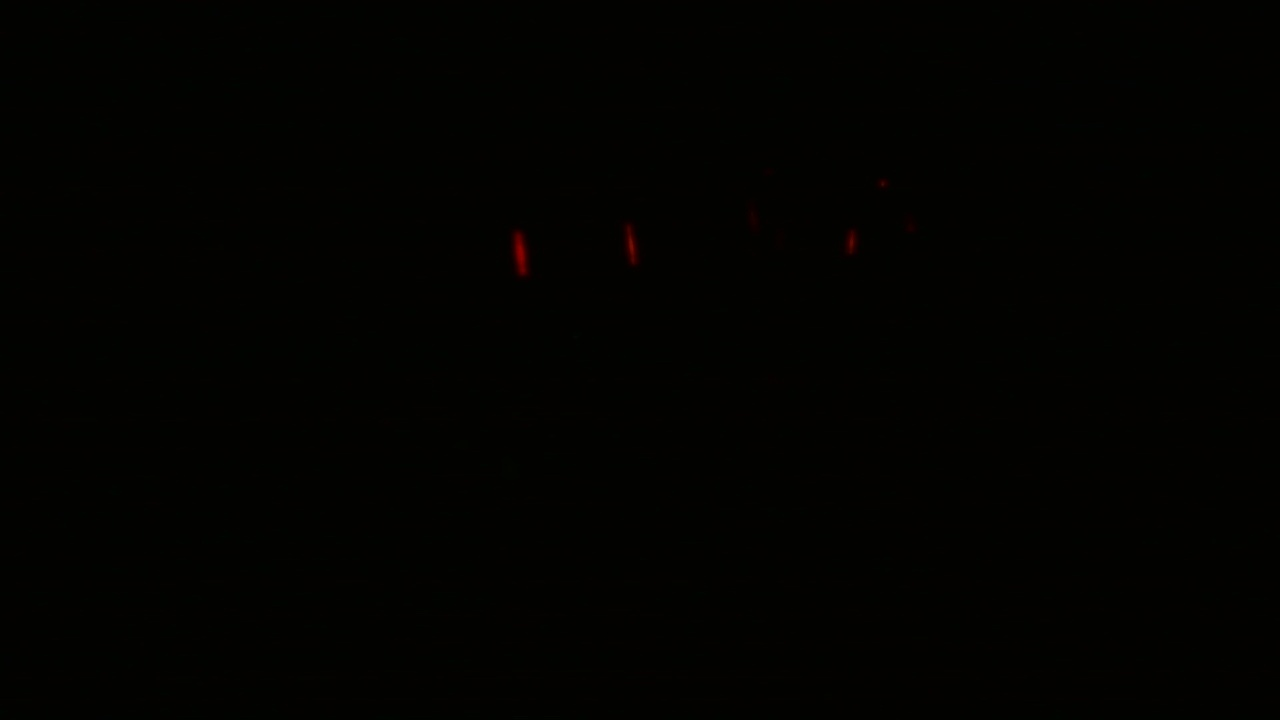pair1: (506, 212, 647, 288)
